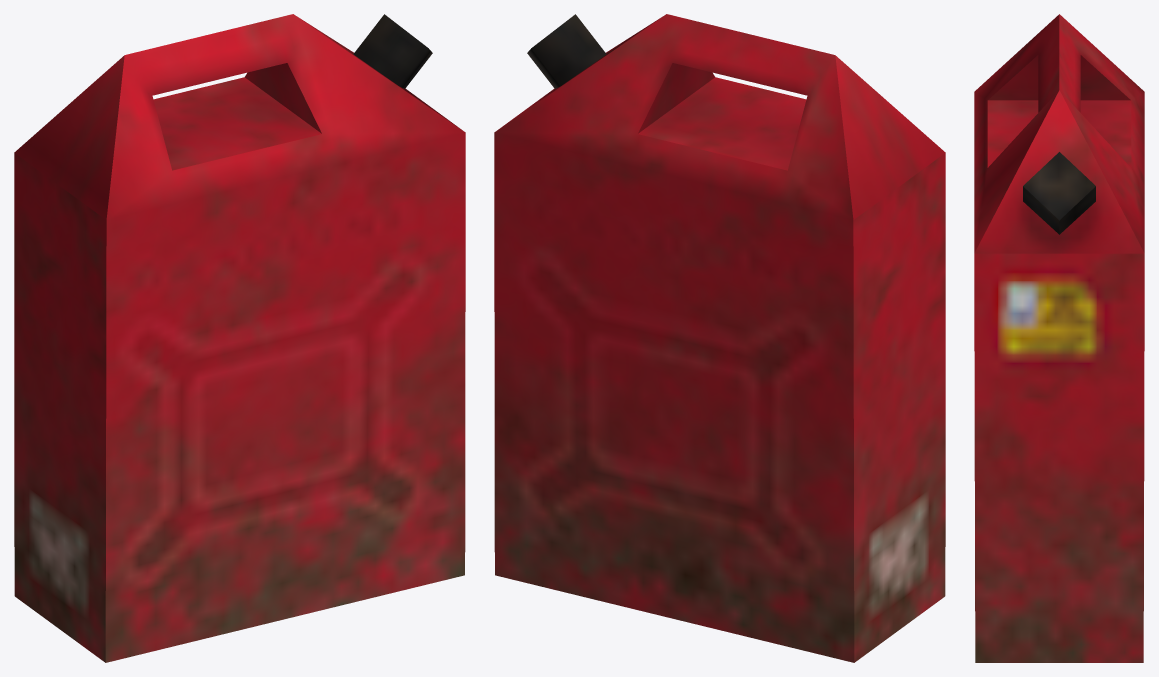
The model's file is Can1_LOD1.fbx.
The picture shows the model from 3 angles, left to right: view 1: azimuth 30°, elevation 25°; view 2: azimuth 150°, elevation 25°; view 3: azimuth 270°, elevation 25°; orthographic projection. The views are drawn at different scales.
Parts seen in each view (by area): view 1: polySurface61; view 2: polySurface61; view 3: polySurface61.
Boxes of the visible parts, x1,y1,x2,y2 form: polySurface61: (14, 14, 465, 662); polySurface61: (494, 14, 945, 662); polySurface61: (974, 14, 1144, 662).
Size of the model in its own units: 0.6704 by 0.96 by 0.2874.
